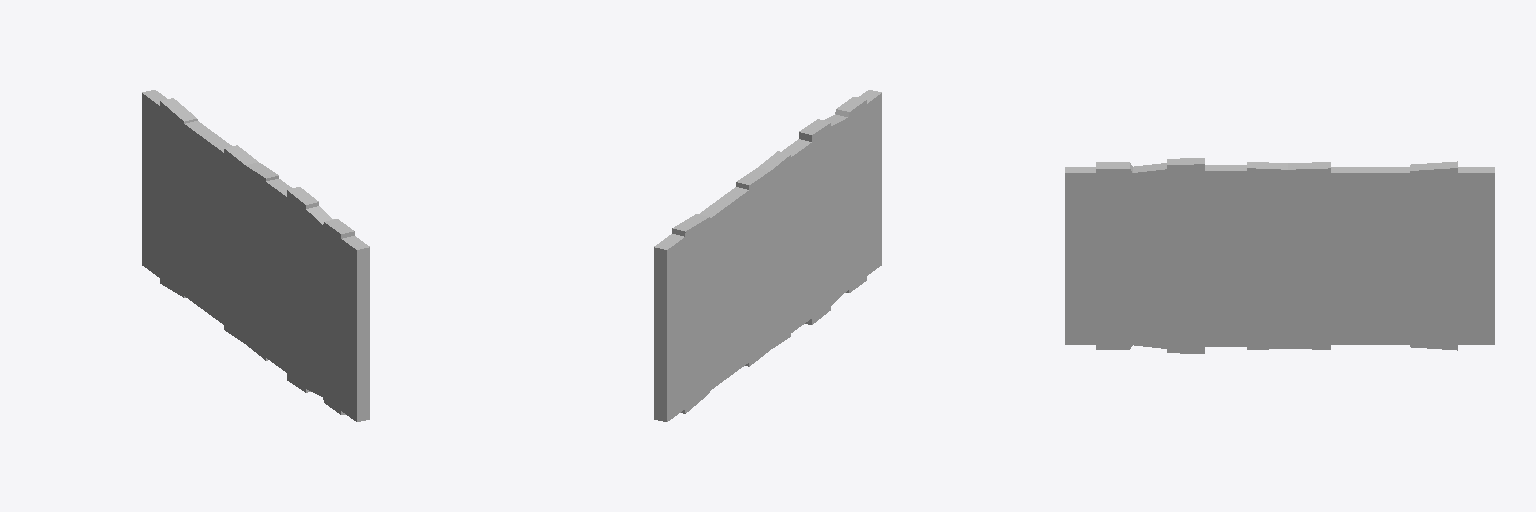
The model's file is WoodenFence.obj.
The picture shows the model from 3 angles: view 1: azimuth 30°, elevation 25°; view 2: azimuth 150°, elevation 25°; view 3: azimuth 270°, elevation 25°; orthographic projection.
Parts seen in each view (by area): view 1: WoodenFence:pCube1; view 2: WoodenFence:pCube1; view 3: WoodenFence:pCube1.
Boxes of the visible parts, x1=… form: WoodenFence:pCube1: x1=142, y1=90, x2=369, y2=421; WoodenFence:pCube1: x1=654, y1=90, x2=881, y2=421; WoodenFence:pCube1: x1=1065, y1=158, x2=1494, y2=353.
Size of the model in its own units: 0.2271 by 3.1 by 6.36.